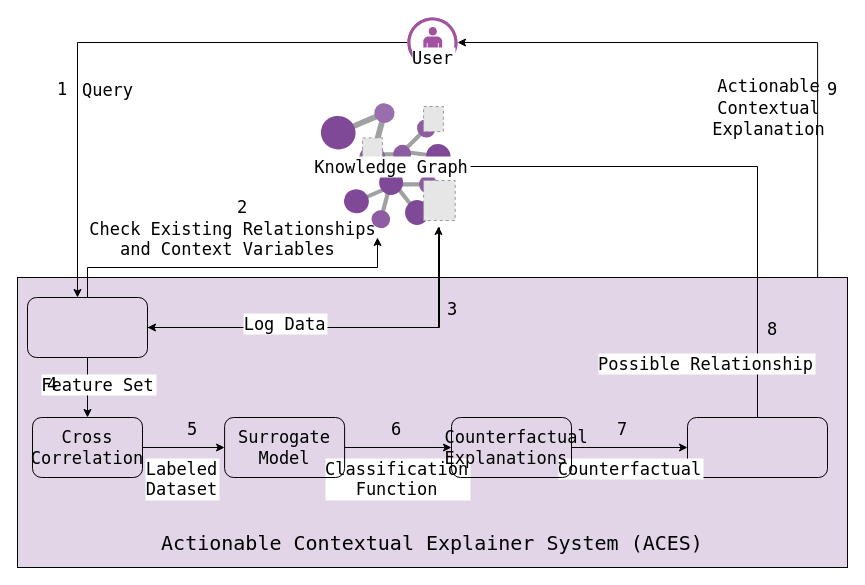
This 865x585 diagram has some shape labels left out. Grey dashed boxes stand in for pictures. Each missing label, with the centre of its shape:
"Context Discovery" goes at (87,327).
"Update Knowledge Graph" goes at (757,447).
